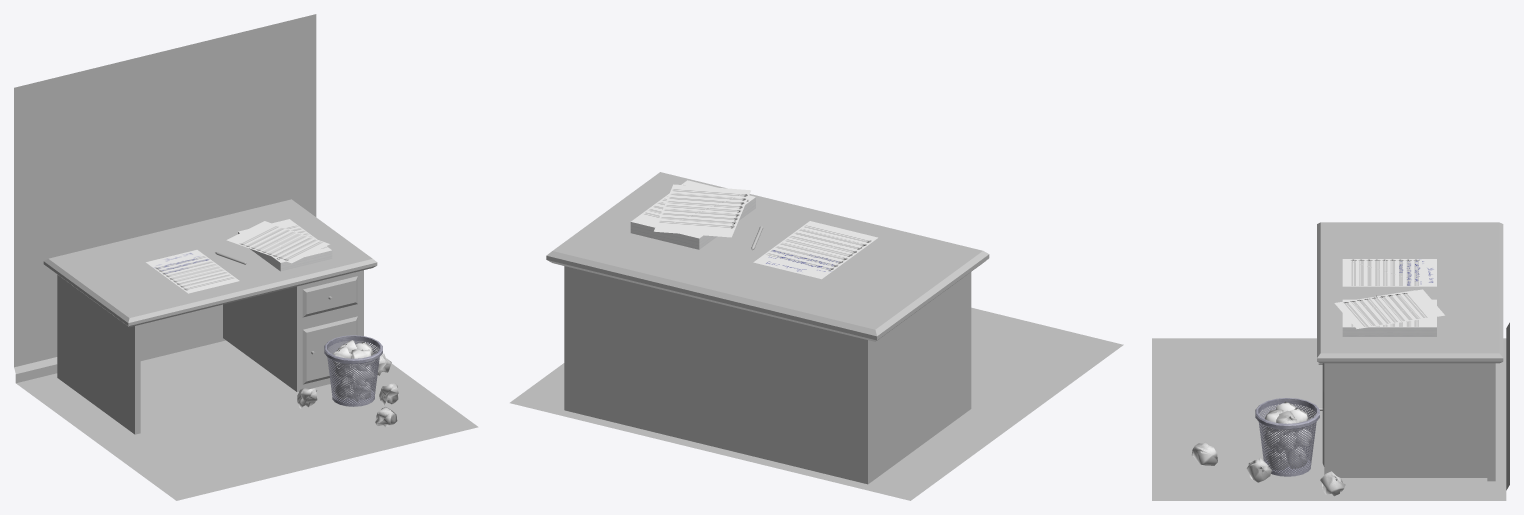
The picture shows the model from 3 angles, left to right: view 1: azimuth 30°, elevation 25°; view 2: azimuth 150°, elevation 25°; view 3: azimuth 270°, elevation 25°; orthographic projection. The views are drawn at different scales.
Visible parts, largest first — view 1: Muralla_Pared_0, Escritorio_Escritorio_0, Piso_Piso_0, Papelero, HojaSuelta, Hoja, TurroDeHojas; view 2: Escritorio_Escritorio_0, Piso_Piso_0, Hoja, HojaSuelta, TurroDeHojas; view 3: Escritorio_Escritorio_0, Piso_Piso_0, Papelero, HojaSuelta, Hoja, TurroDeHojas, Muralla_Pared_0, BadIdea014, BadIdea001, BadIdea.
Boxes of the visible parts, bbox=[...] form: Muralla_Pared_0: bbox=[14, 14, 316, 383]; Escritorio_Escritorio_0: bbox=[43, 199, 377, 434]; Piso_Piso_0: bbox=[16, 340, 478, 500]; Papelero: bbox=[324, 335, 382, 406]; HojaSuelta: bbox=[226, 221, 329, 263]; Hoja: bbox=[146, 250, 239, 293]; TurroDeHojas: bbox=[238, 219, 332, 271]; Escritorio_Escritorio_0: bbox=[546, 172, 989, 484]; Piso_Piso_0: bbox=[510, 307, 1123, 500]; Hoja: bbox=[753, 221, 877, 279]; HojaSuelta: bbox=[654, 184, 750, 237]; TurroDeHojas: bbox=[630, 180, 755, 249]; Escritorio_Escritorio_0: bbox=[1317, 222, 1503, 481]; Piso_Piso_0: bbox=[1152, 338, 1506, 500]; Papelero: bbox=[1255, 398, 1319, 476]; HojaSuelta: bbox=[1334, 289, 1444, 328]; Hoja: bbox=[1342, 259, 1436, 286]; TurroDeHojas: bbox=[1342, 299, 1436, 336]; Muralla_Pared_0: bbox=[1506, 322, 1509, 490]; BadIdea014: bbox=[1191, 441, 1217, 465]; BadIdea001: bbox=[1246, 457, 1271, 482]; BadIdea: bbox=[1320, 471, 1345, 496].
Bounding box in the file's own units: 103 × 97.54 × 95.95.
